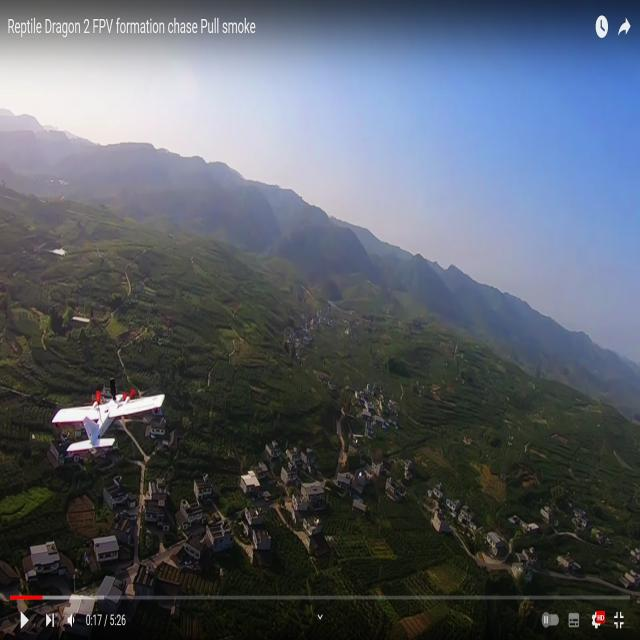iha: (21, 394, 69, 458)
